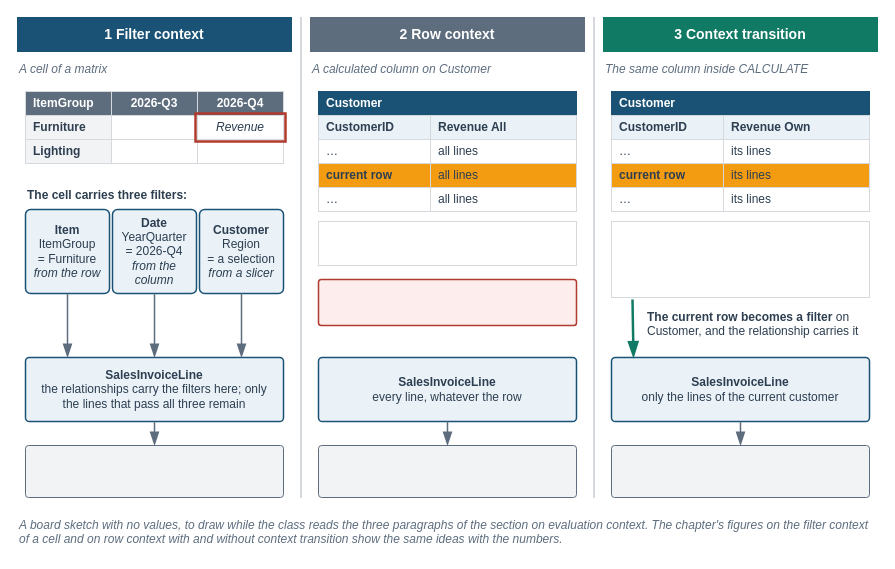
The diagram is 895 pixels wide and 569 high, and some of its shapes have lost their labels. Here are the shapes that lost their labels. From the top down, the box of each, then its label:
(318, 220, 576, 266): Revenue All = SUM ( SalesInvoiceLine[LineTotal] )
(610, 220, 870, 298): Revenue Own = CALCULATE ( SUM ( SalesInvoiceLine[LineTotal] ) )
(317, 278, 577, 326): No arrow. The row is not a filter, so nothing narrows the lines.
(24, 444, 284, 498): SUM ( LineTotal ) adds those lines: the cell shows one number
(318, 444, 576, 498): Every row reads the same number: the total of all the lines
(610, 444, 870, 498): Each row reads its own number: that customer's lines only
